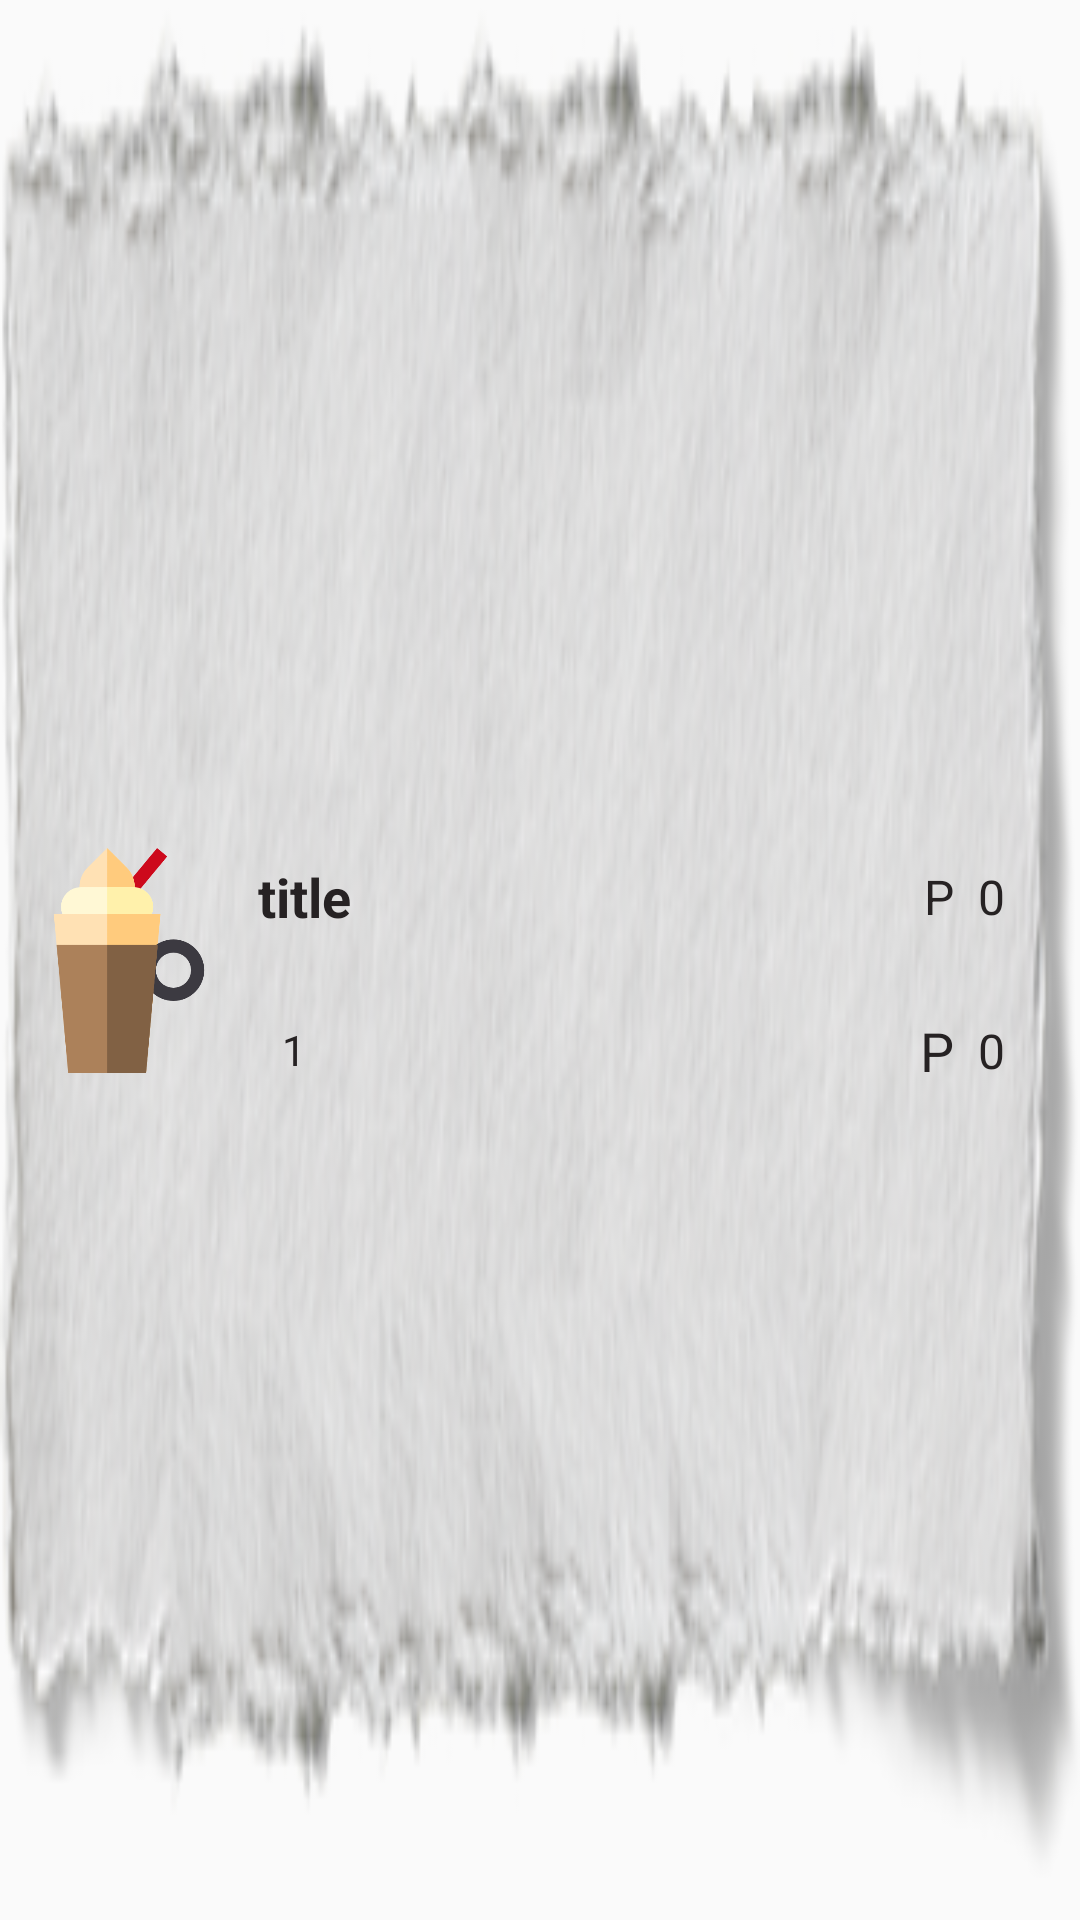

Named icons in this screenshot (1080*1920) and their bounding boxes, (left=x1, top=y1, right=x2, bottom=y2):
cappuccino: (left=18, top=848, right=204, bottom=1073)
